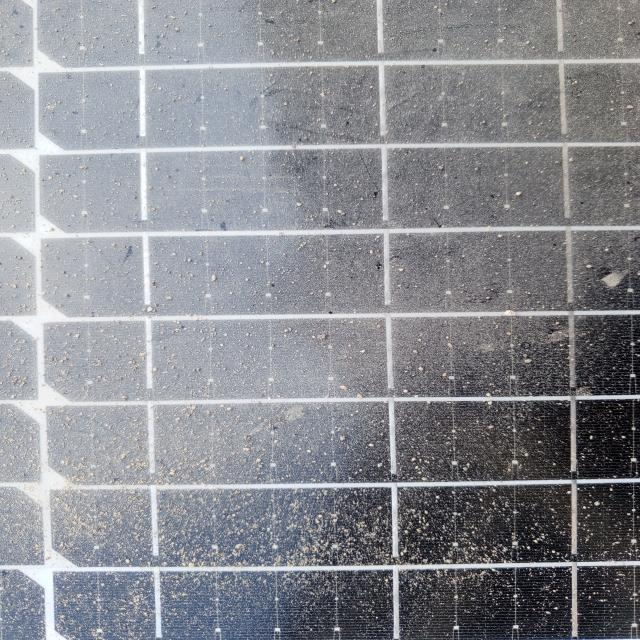Anomaly Solar Panel: (3, 0, 640, 640)
Surface Contaminant: (43, 87, 639, 616)
